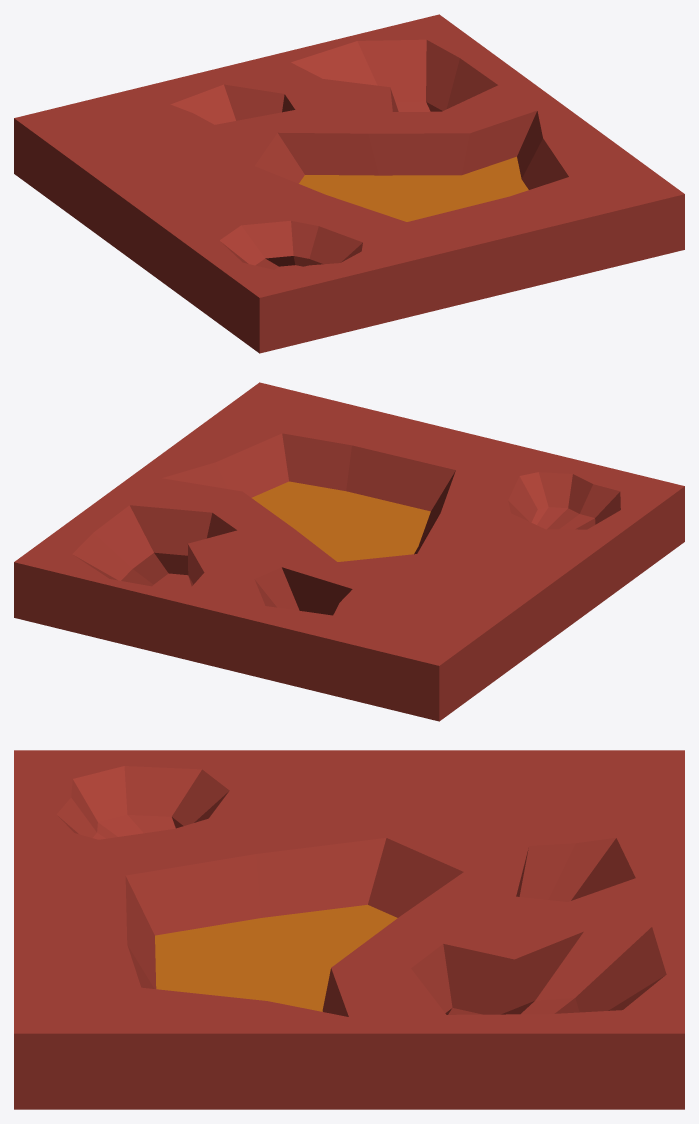
Rendered from Field_8_digged.fbx.
3 views of the same model, one above another, from view 1: azimuth 30°, elevation 25°; view 2: azimuth 150°, elevation 25°; view 3: azimuth 270°, elevation 25° (orthographic). The views are drawn at different scales.
Visible parts, largest first — view 1: Plane.022; view 2: Plane.022; view 3: Plane.022.
Part boxes in pixels (x1,y1,x2,y2): Plane.022: (14, 14, 684, 353); Plane.022: (14, 382, 684, 721); Plane.022: (14, 750, 684, 1109).
Bounding box in the file's own units: 400 × 92.12 × 400.
